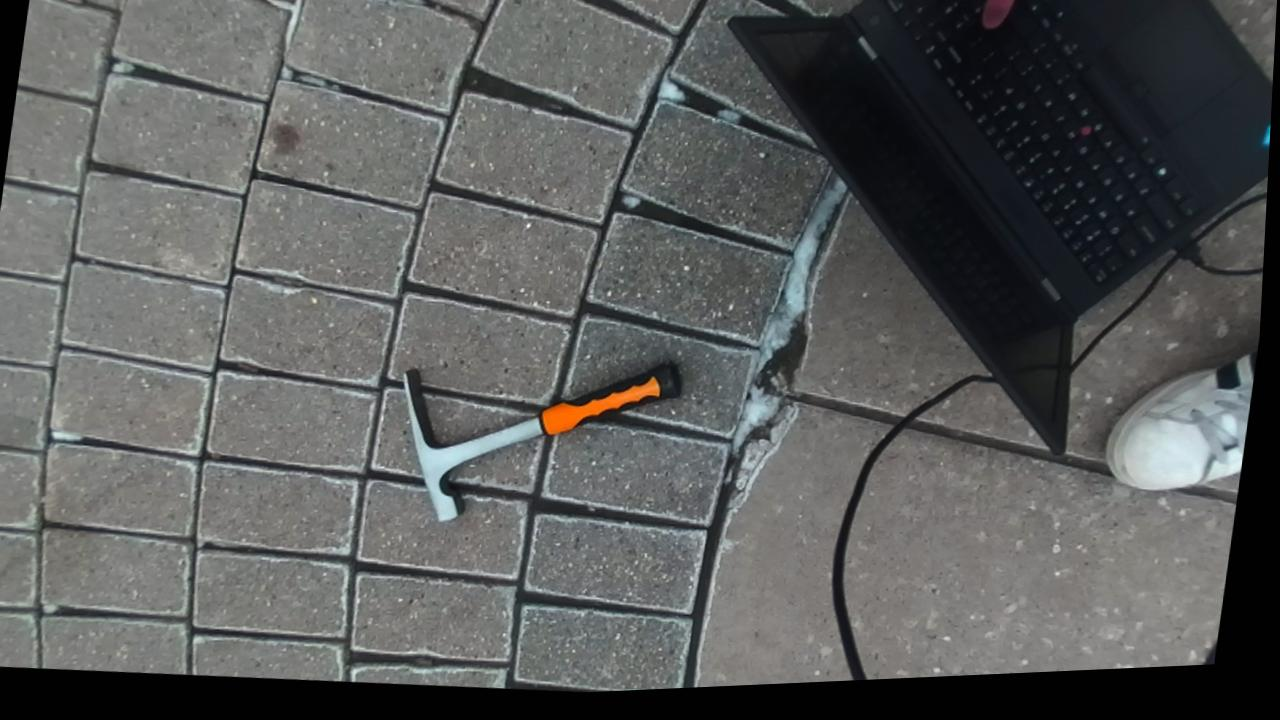pick: (402, 363, 681, 521)
